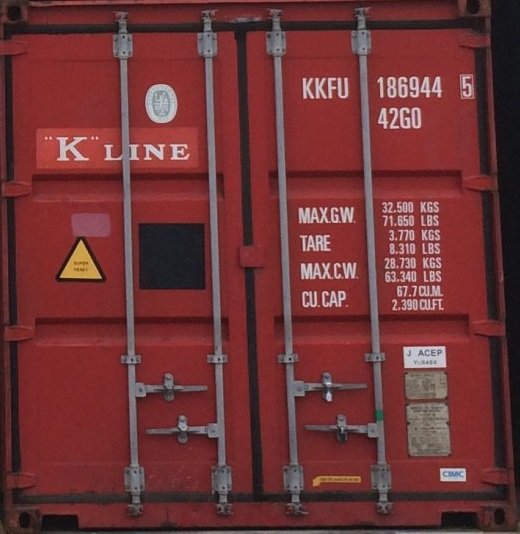container_door: (5, 11, 509, 524)
